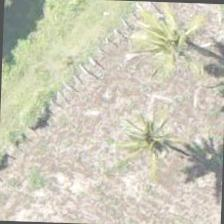Kelapa_Sawit: (105, 87, 198, 180), (135, 2, 223, 96)
